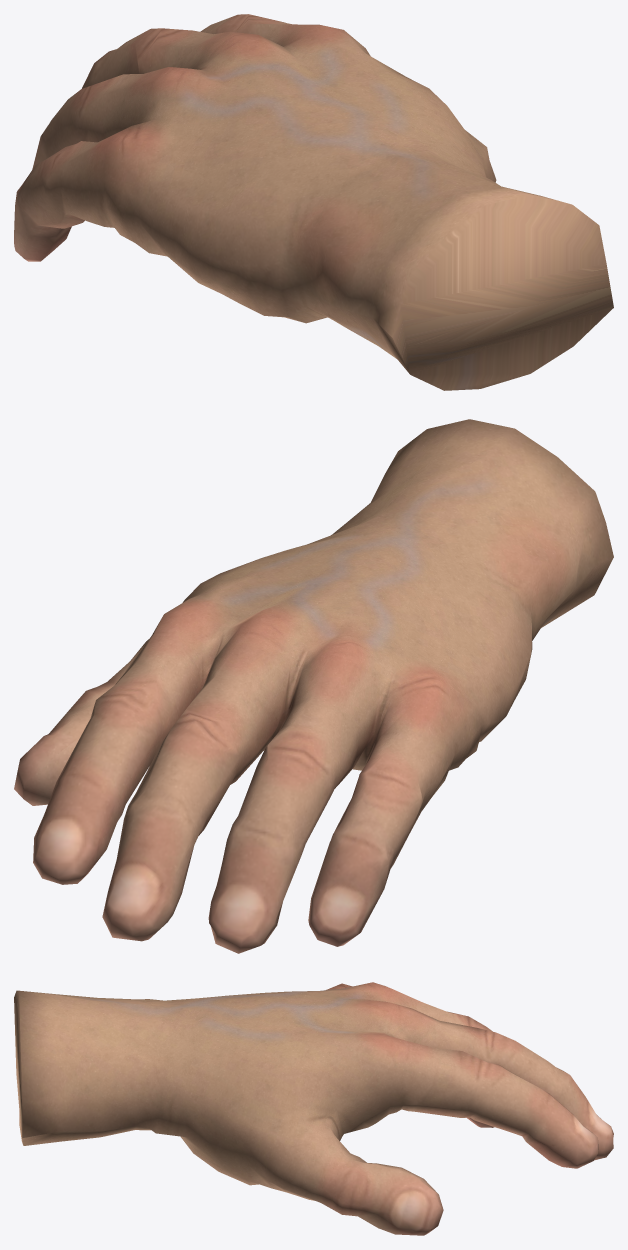
File: arm.glb
3 renders of one model, top to bottom at view 1: azimuth 30°, elevation 25°; view 2: azimuth 150°, elevation 25°; view 3: azimuth 270°, elevation 25°, orthographic. The views are drawn at different scales.
Parts seen in each view (by area): view 1: Polygon; view 2: Polygon; view 3: Polygon.
Boxes of the visible parts, <box> form: Polygon: <box>14,14,613,390</box>; Polygon: <box>14,419,613,953</box>; Polygon: <box>14,982,613,1235</box>.
Size of the model in its own units: 35.82 by 21.53 by 62.7.
1 material, 1 textured.
